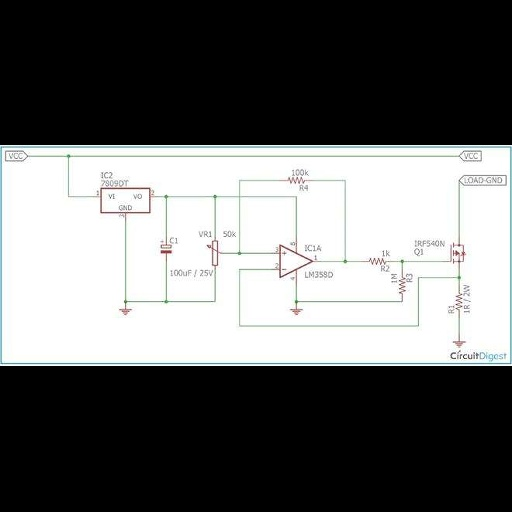gnd: (117, 307, 133, 317), (288, 307, 305, 316)
mos: (450, 242, 460, 264)
secondresistance: (364, 256, 388, 266), (454, 291, 463, 314), (398, 275, 406, 296), (284, 177, 307, 184)
